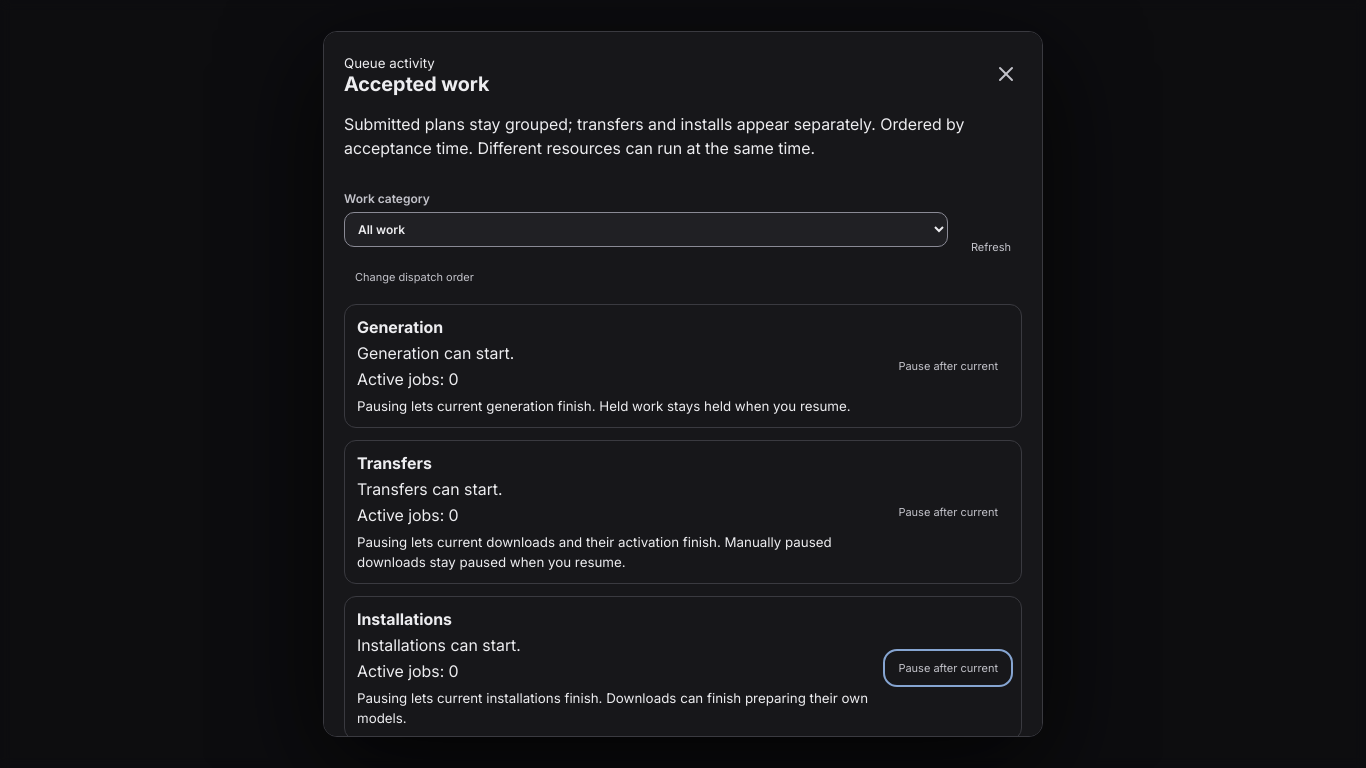
Test case: preserves focus and prevents duplicate pause while saving: false
Click the button with aria-label "Pause installations after current work": click(948, 668) [887,653,1009,683]
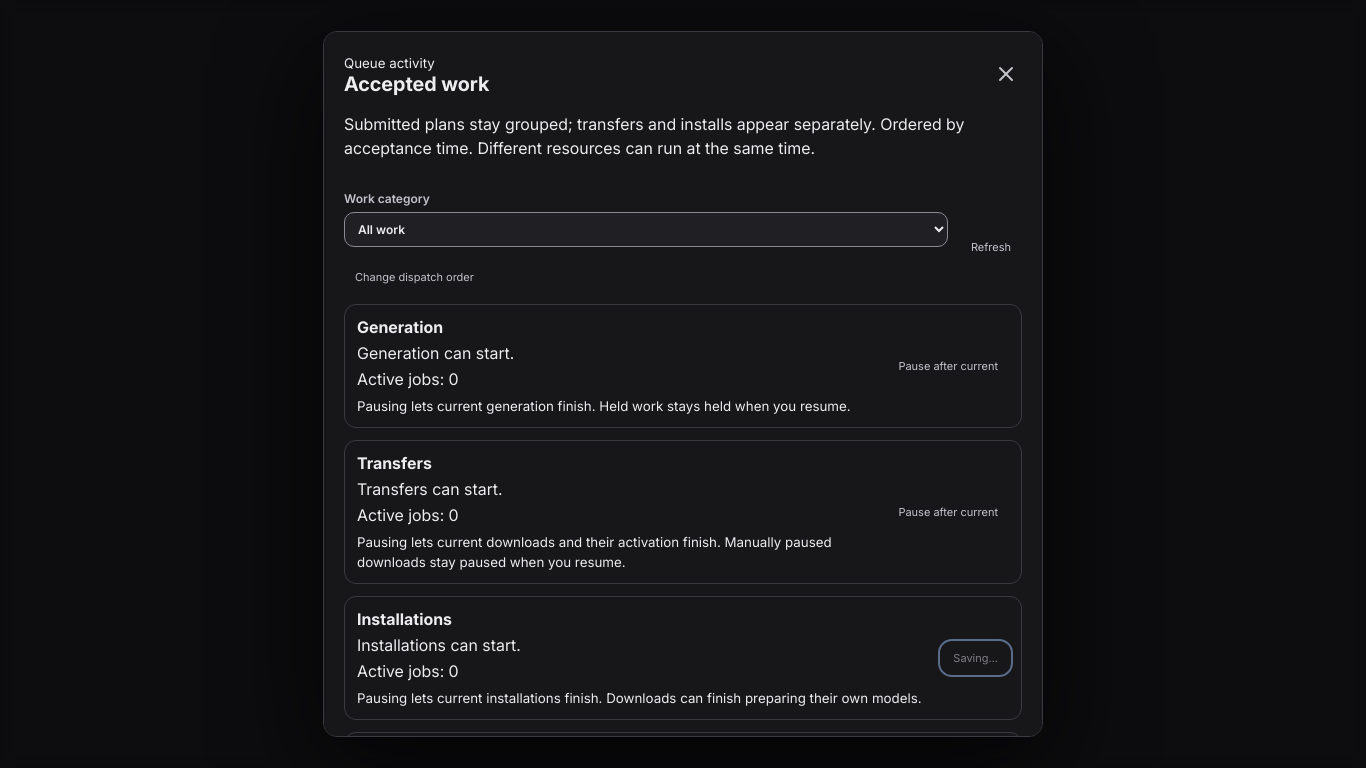
Expected: the button with aria-label "Saving installations change" is disabled
Click the button with aria-label "Saving installations change": click(976, 658) [942,643,1009,673]
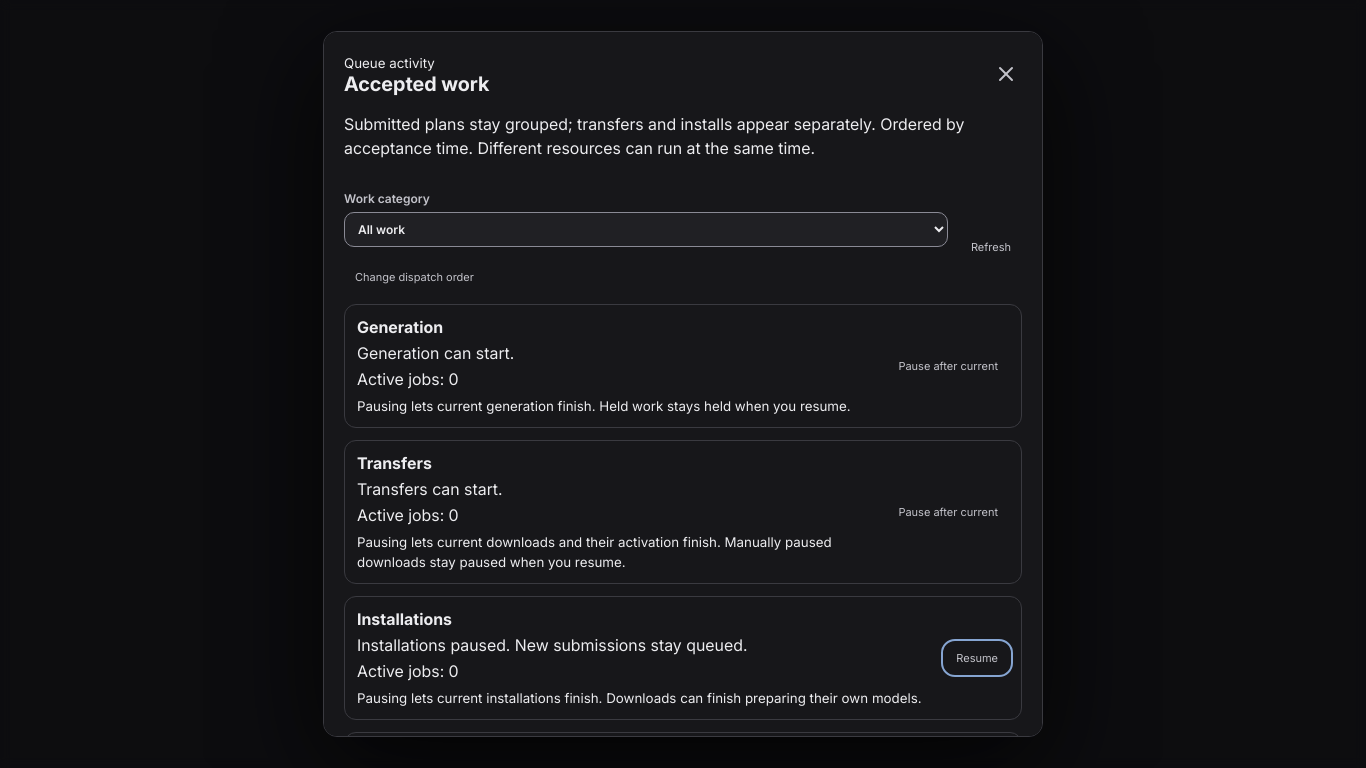
Expected: the text "Installations paused. New submissions stay queued." is shown, [357,635,747,655]
